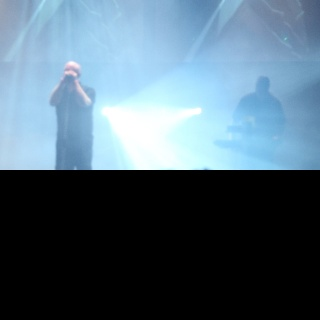without_mask: (64, 61, 80, 83)
